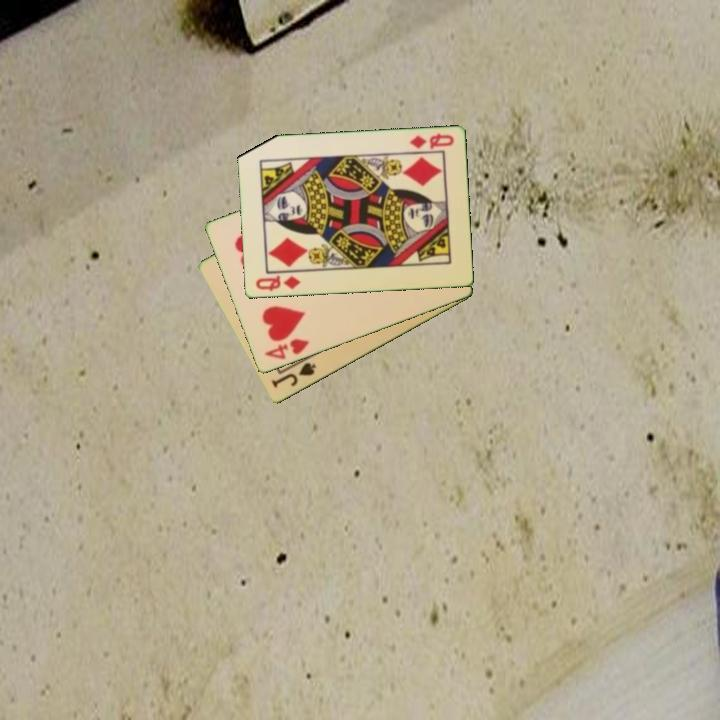4h: (261, 335, 312, 363)
Js: (268, 359, 319, 391)
Qd: (252, 272, 303, 295), (406, 130, 456, 152)
